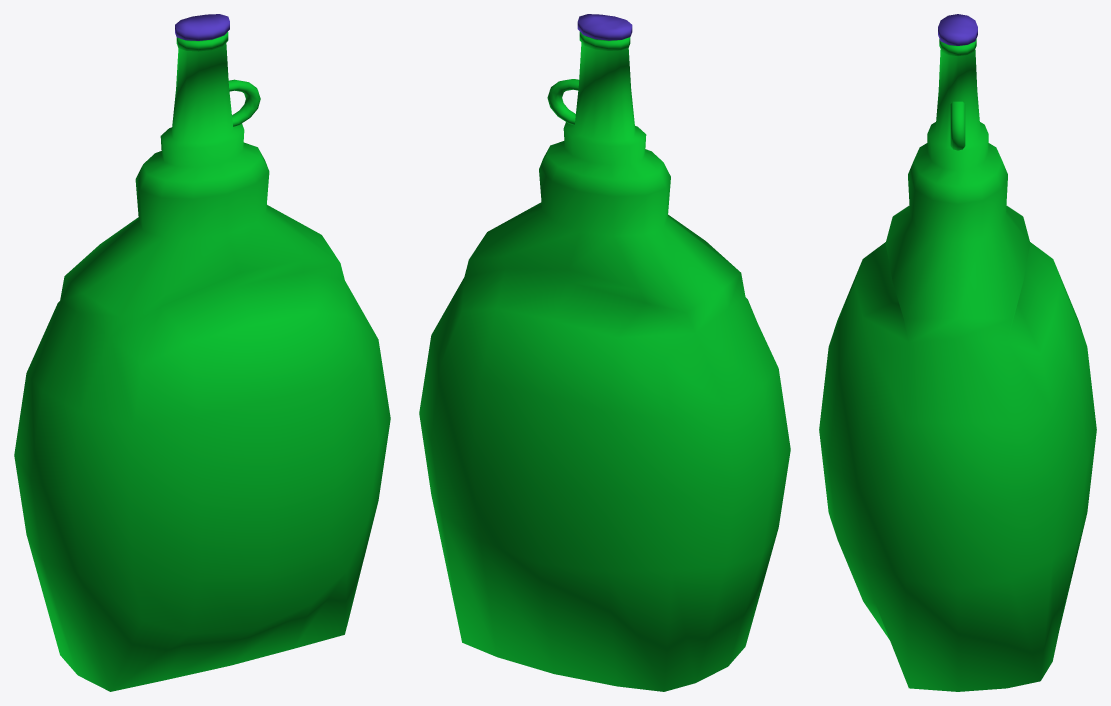
File: MapleSyrup.fbx
The picture shows the model from 3 angles, left to right: view 1: azimuth 30°, elevation 25°; view 2: azimuth 150°, elevation 25°; view 3: azimuth 270°, elevation 25°; orthographic projection. The views are drawn at different scales.
Visible parts, largest first — view 1: MapleSyrup; view 2: MapleSyrup; view 3: MapleSyrup.
Part boxes in pixels (left/top/right/bottom): MapleSyrup: left=14, top=14, right=390, bottom=691; MapleSyrup: left=419, top=14, right=790, bottom=691; MapleSyrup: left=819, top=14, right=1096, bottom=691.
Size of the model in its own units: 1.72 by 2.97 by 1.23.
